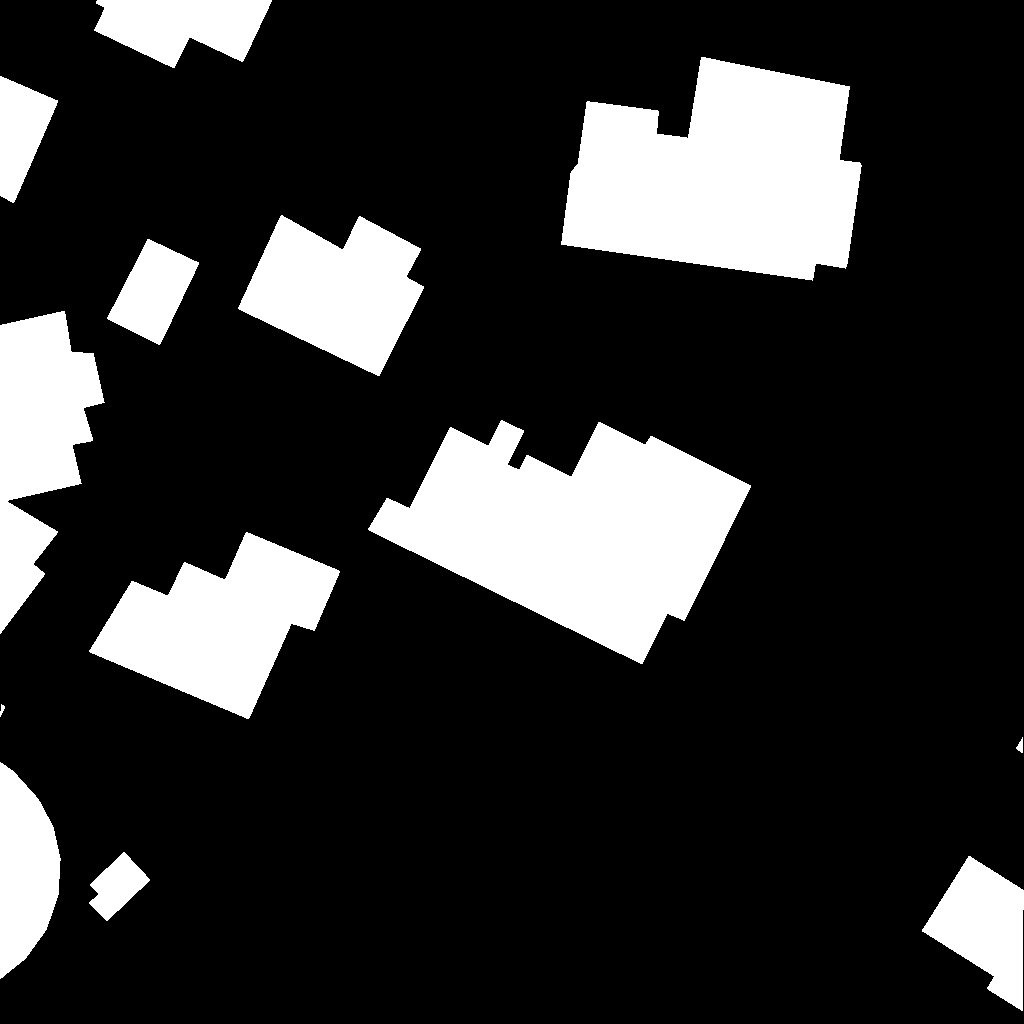building: (368, 420, 752, 665), (561, 57, 862, 281), (89, 532, 341, 720), (0, 311, 105, 635), (238, 215, 425, 377), (0, 704, 61, 980), (922, 856, 1024, 1012), (94, 0, 273, 69), (107, 239, 200, 346), (0, 76, 59, 204), (89, 852, 151, 922), (1016, 737, 1024, 754)
